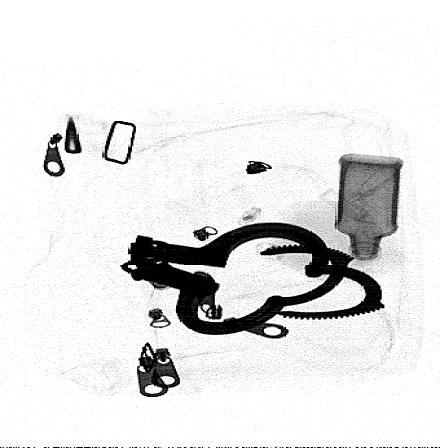HandCuffs: (116, 218, 387, 337)
